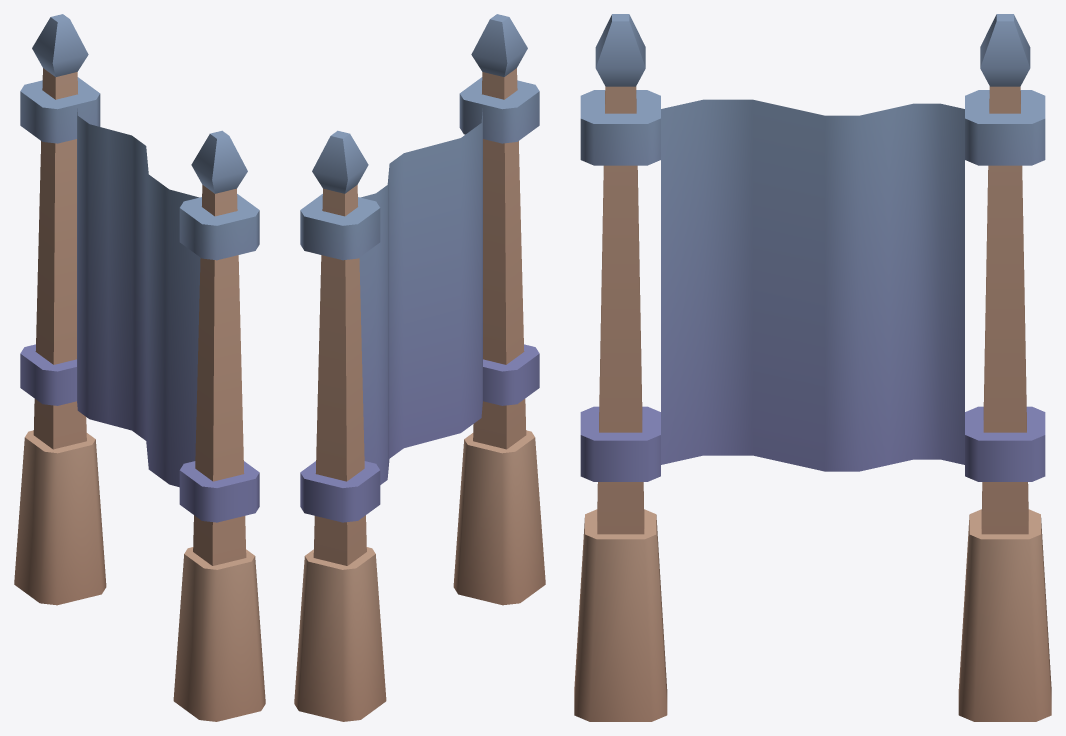
The model's file is flag-wide.glb.
3 renders of one model, left to right at view 1: azimuth 30°, elevation 25°; view 2: azimuth 150°, elevation 25°; view 3: azimuth 270°, elevation 25°, orthographic. The views are drawn at different scales.
Parts seen in each view (by area): view 1: flag-wide; view 2: flag-wide; view 3: flag-wide.
Part boxes in pixels (x1=…): flag-wide: x1=14, y1=14, x2=265, y2=721; flag-wide: x1=294, y1=14, x2=545, y2=721; flag-wide: x1=574, y1=14, x2=1051, y2=721.
Bounding box in the file's own units: 0.1064 × 0.8656 × 0.5469.
